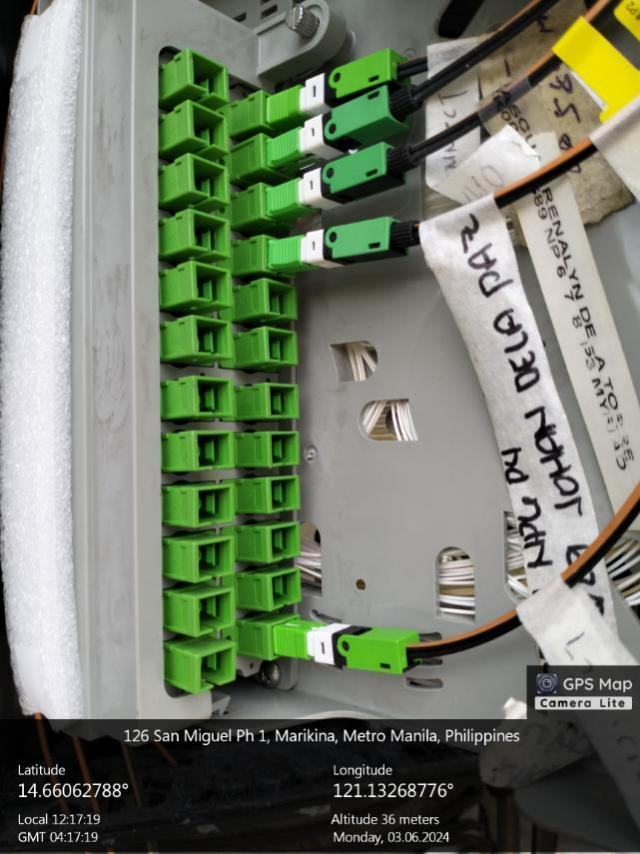no dust cap: (188, 47, 231, 100), (186, 99, 229, 152), (196, 260, 233, 309), (196, 592, 235, 638), (194, 210, 231, 258), (191, 156, 227, 205), (196, 540, 236, 582), (198, 646, 234, 692), (195, 487, 235, 527), (191, 319, 230, 358), (193, 433, 233, 470), (196, 378, 233, 417), (265, 325, 299, 365), (262, 282, 299, 318), (271, 570, 302, 608), (267, 386, 299, 420), (269, 432, 299, 467), (269, 525, 299, 559), (269, 478, 299, 512)
occupied: (269, 73, 434, 175), (264, 134, 420, 223), (268, 43, 411, 125), (271, 619, 426, 682), (270, 213, 426, 271)
